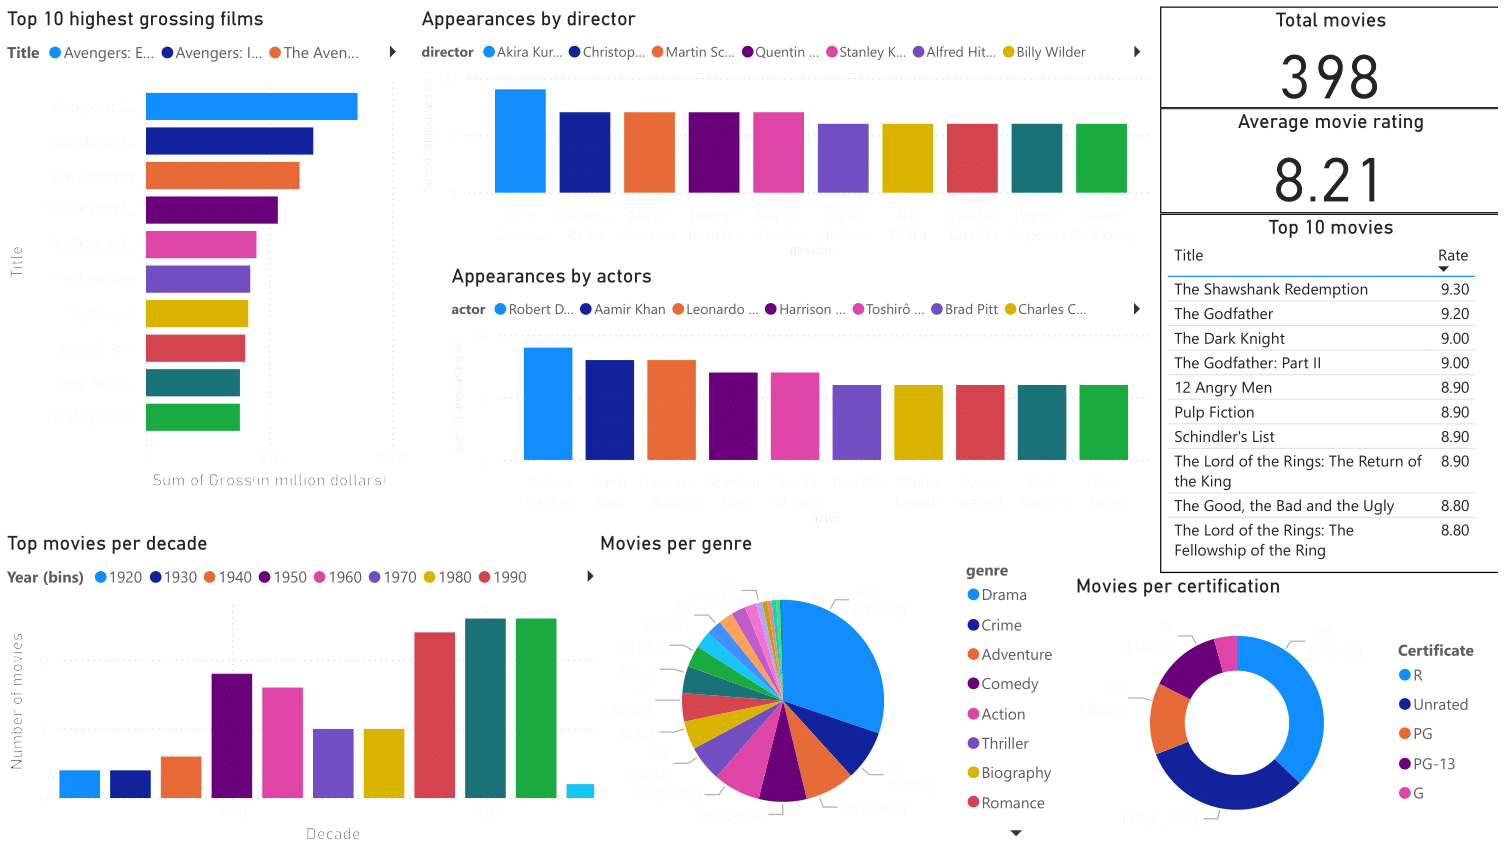

The dashboard page shown, as its layout file describes it:
{"tool":"powerbi","page":{"name":"Page 1","canvas":[1280,720],"ordinal":0},"visuals":[{"type":"columnChart","title":"Top movies per decade","fields":{"Category":["movies_per_year.Year (bins)","movies_per_year.Year"],"Y":["movies_per_year.COUNT(`Year`)"],"Series":["movies_per_year.Year (bins)"]},"box":[0,448.6,522.9,271.4],"z":0},{"type":"donutChart","title":"Movies per certification","fields":{"Category":["count_by_certification.Certificate"],"Y":["count_by_certification.count"]},"box":[912.9,467.1,367.1,252.9],"z":2},{"type":"card","title":"Average movie rating","fields":{"Values":["complete_data.Rate"]},"box":[990,87.1,290,90],"z":3},{"type":"card","title":"Total movies","fields":{"Values":["complete_data.Title"]},"box":[990,0,290,87.1],"z":4},{"type":"tableEx","title":"Top 10 movies","fields":{"Values":["top_10_movies.Title","top_10_movies.Rate"]},"box":[990,177.1,290,290],"z":5},{"type":"pieChart","title":"Movies per genre","fields":{"Category":["movies_per_genre.genre"],"Y":["movies_per_genre.appearances"]},"box":[507.1,448.6,405.7,271.4],"z":6},{"type":"barChart","title":"Top 10 highest grossing films","fields":{"Category":["top_grossing_movies.Title"],"Y":["top_grossing_movies.Gross(in million dollars)"],"Series":["top_grossing_movies.Title"]},"box":[0,0,354.3,417.1],"z":7},{"type":"columnChart","title":"Appearances by director","fields":{"Category":["movies_per_director.director"],"Y":["movies_per_director.appearances"],"Series":["movies_per_director.director"]},"box":[354.3,0,635.7,220],"z":8},{"type":"columnChart","title":"Appearances by actors","fields":{"Category":["movies_per_actor.actor"],"Y":["movies_per_actor.appearances"],"Series":["movies_per_actor.actor"]},"box":[380,220,610,228.6],"z":9}]}

Visuals, with their boxes in screenshot pixels (x1, y1, x2, y2), scaled from the page's 1280x720 canvas onto the 1507x842 screenshot:
"Top movies per decade" columnChart: {"x1": 0, "y1": 525, "x2": 616, "y2": 841}
"Movies per certification" donutChart: {"x1": 1075, "y1": 546, "x2": 1506, "y2": 841}
"Average movie rating" card: {"x1": 1166, "y1": 102, "x2": 1506, "y2": 207}
"Total movies" card: {"x1": 1166, "y1": 0, "x2": 1506, "y2": 102}
"Top 10 movies" tableEx: {"x1": 1166, "y1": 207, "x2": 1506, "y2": 546}
"Movies per genre" pieChart: {"x1": 597, "y1": 525, "x2": 1075, "y2": 841}
"Top 10 highest grossing films" barChart: {"x1": 0, "y1": 0, "x2": 417, "y2": 488}
"Appearances by director" columnChart: {"x1": 417, "y1": 0, "x2": 1166, "y2": 257}
"Appearances by actors" columnChart: {"x1": 447, "y1": 257, "x2": 1166, "y2": 525}
